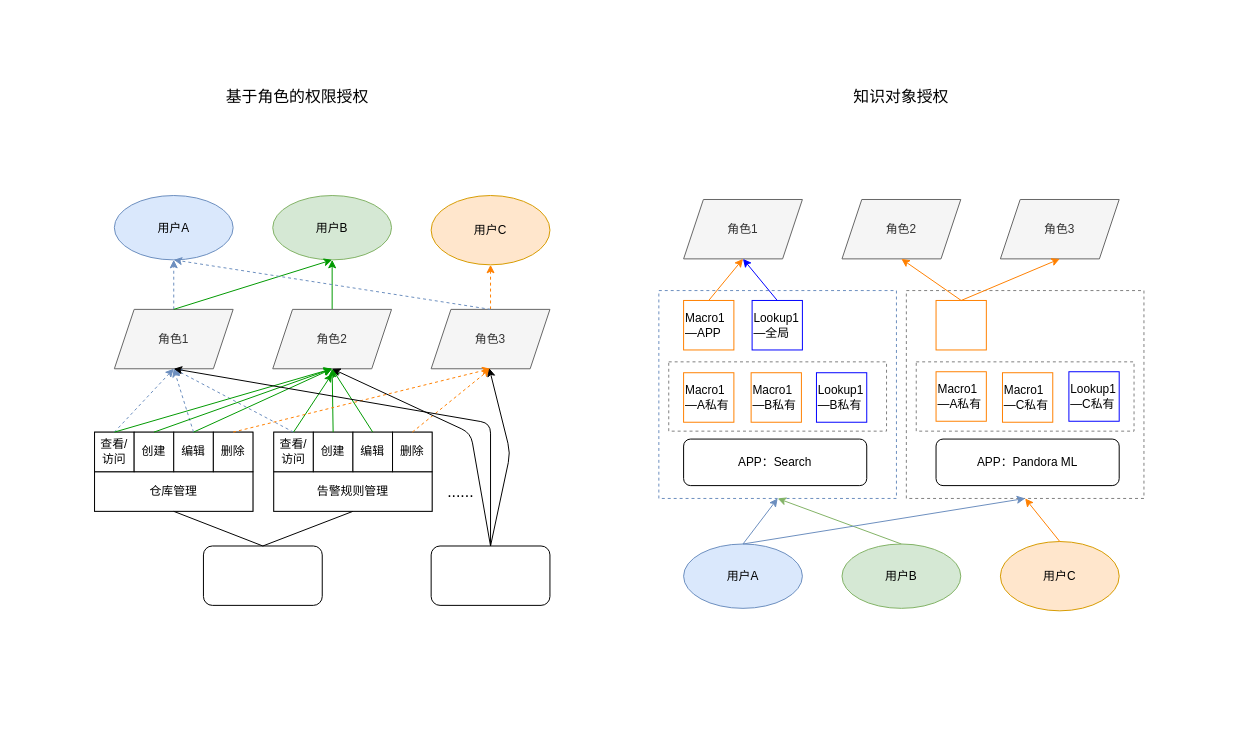
Image size: 1237x746. Some labels were removed from this diagram. Here are the shapes that lost their labels. From the top down, the centre of each, then its label:
pixel 960 324: Macro1 —全局
pixel 262 575: 功能权限
pixel 490 575: 数据权限
